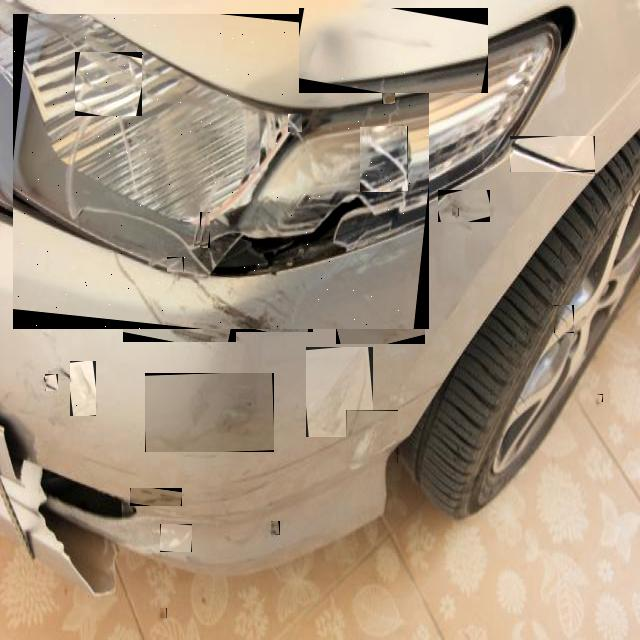Dent: (13, 14, 429, 329), (299, 8, 488, 93), (145, 373, 274, 452), (123, 260, 236, 342), (82, 109, 142, 222), (306, 347, 373, 437), (14, 36, 89, 108), (336, 291, 425, 344), (233, 275, 313, 332), (75, 52, 142, 116), (322, 167, 381, 221), (360, 126, 408, 192), (510, 136, 595, 172), (346, 410, 398, 463), (216, 227, 256, 273), (438, 190, 490, 222), (342, 27, 432, 44), (70, 361, 96, 416), (130, 488, 182, 506), (160, 524, 192, 552), (554, 305, 574, 333), (382, 76, 395, 104), (200, 212, 210, 248), (288, 113, 302, 132), (167, 257, 184, 272), (45, 374, 58, 391), (61, 368, 74, 380), (271, 521, 280, 535), (160, 608, 167, 618), (596, 394, 603, 402), (452, 208, 459, 216)
